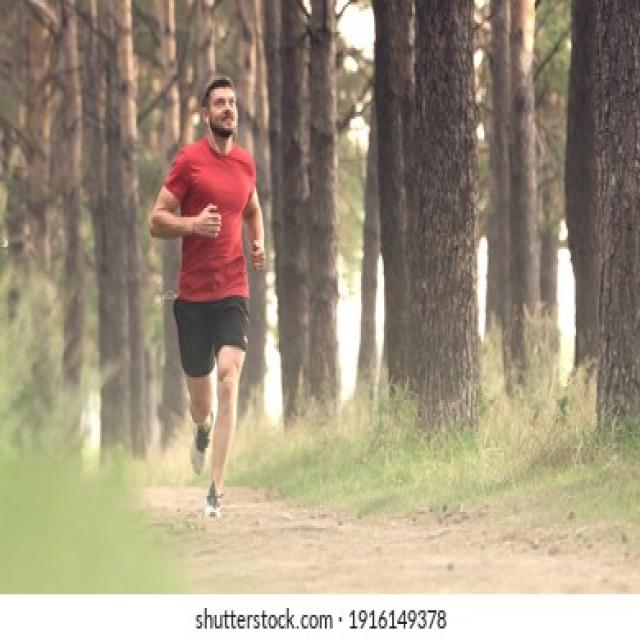running: (146, 71, 266, 525)
